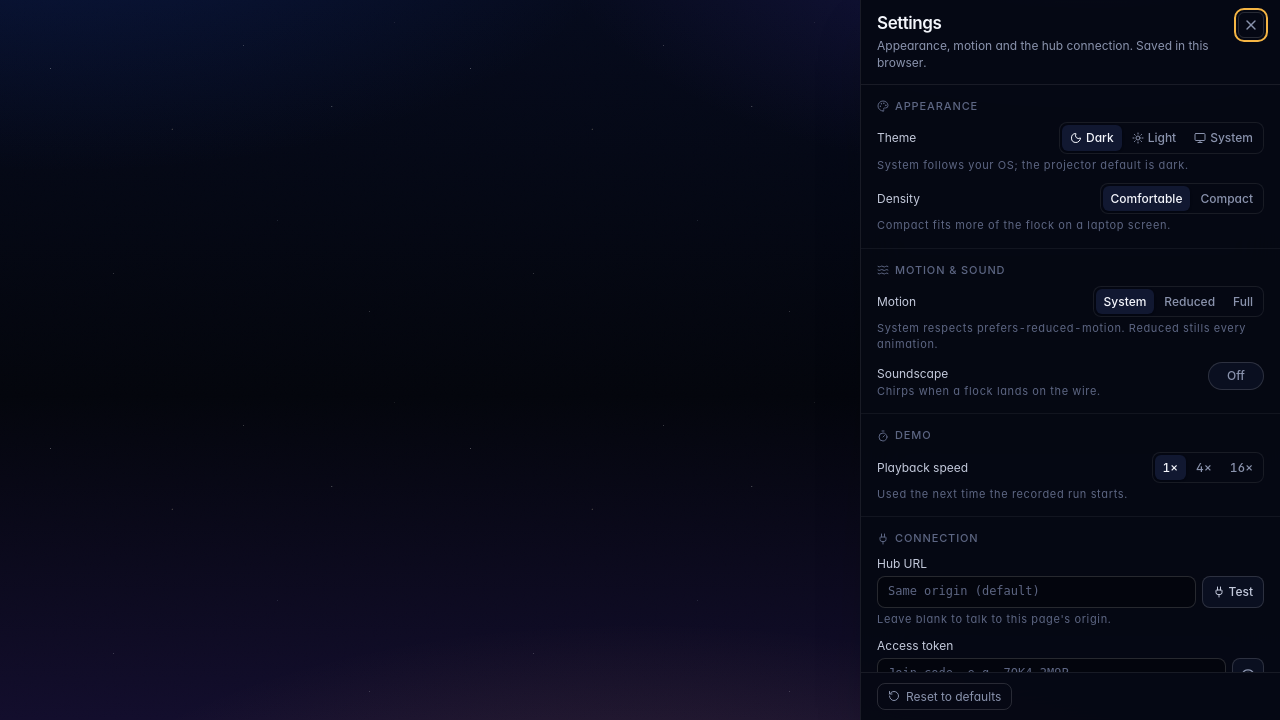
Scenario: SettingsDrawer › a hostile URL is refused before any request is made
Type "javascript:alert(1)" into the field labelled "Hub URL". click: (1036,592)
box: [877, 576, 1196, 608]
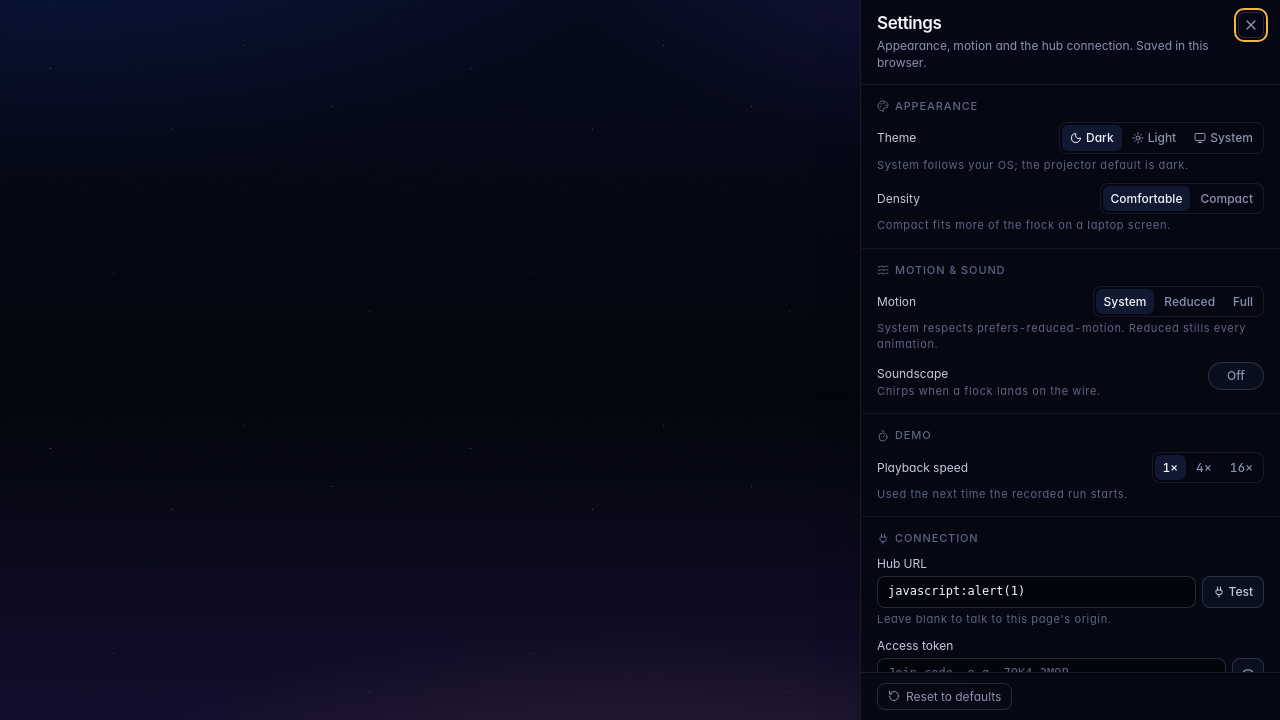
Click the button "Test". click: (1233,592)
box: [1202, 576, 1264, 608]
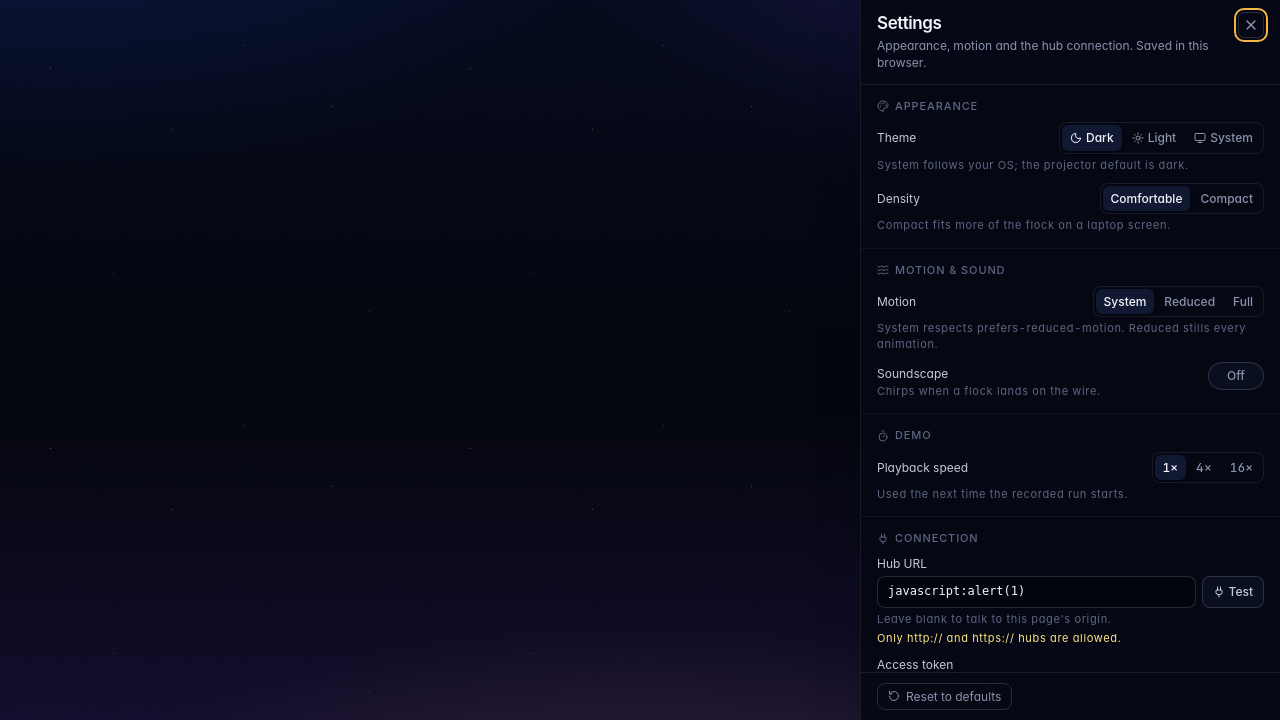
Expected: the message "Only http:// and https:// hubs are allowed." is shown, [877, 631, 1121, 645]
